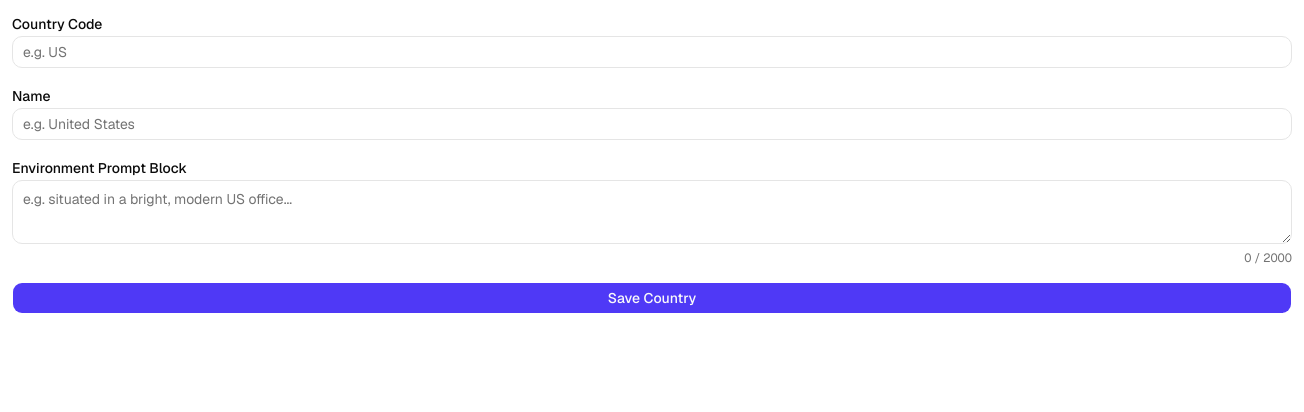
Test: CountryForm › shows validation errors for empty required fields
Click the button "Save Country" at {"x": 652, "y": 298}, box 12,282 -> 1292,314
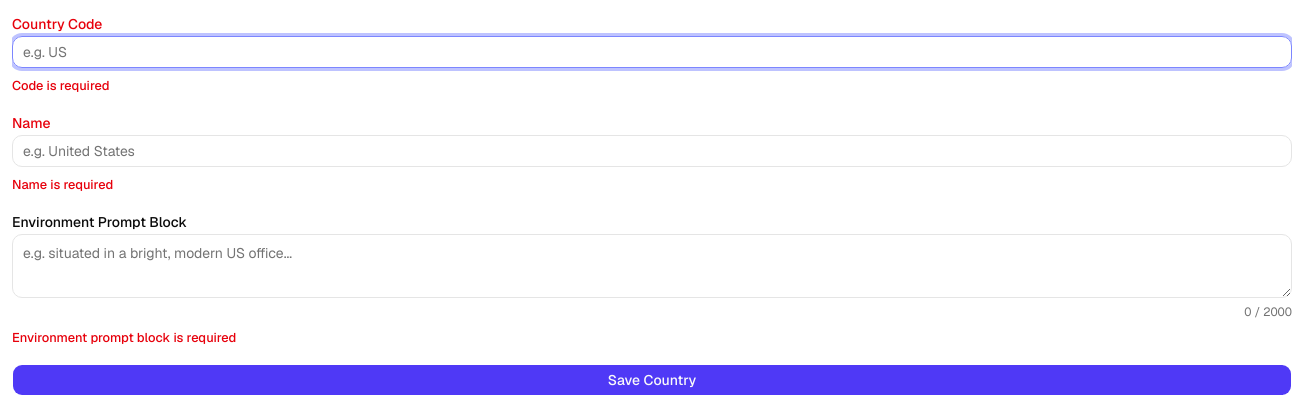
Now the text "Code is required" is shown, box 12,77 -> 110,94
Now the text "Name is required" is shown, box 12,176 -> 113,193
Now the text "Environment prompt block is required" is shown, box 12,329 -> 236,346
